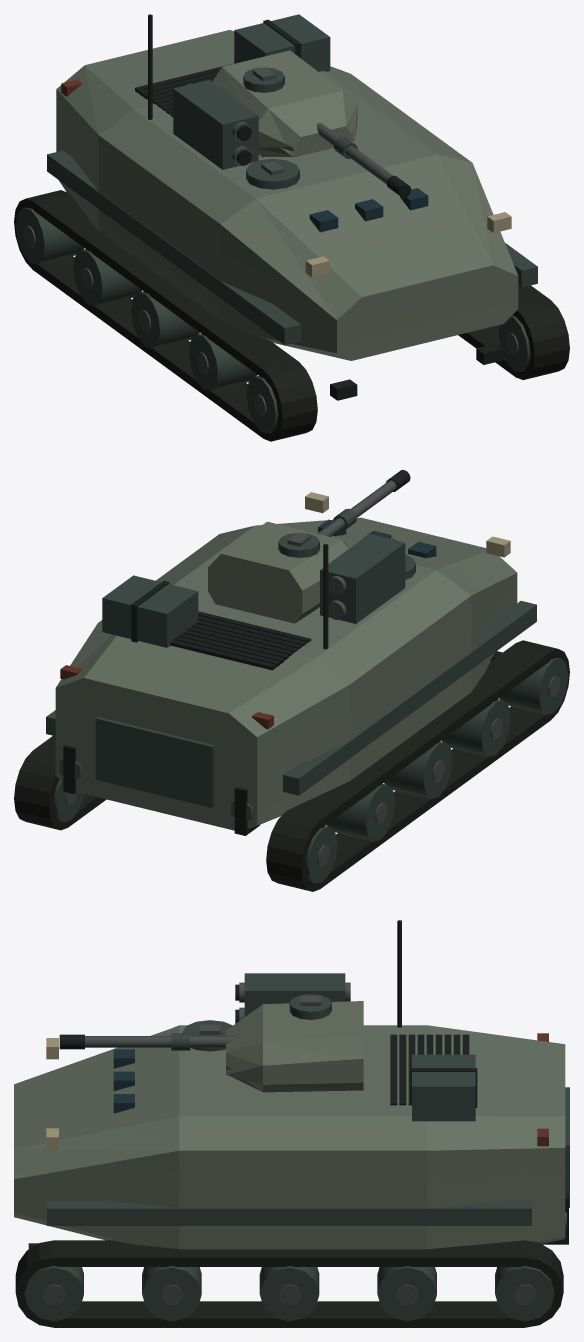
The model's file is ifv-lod.glb.
The picture shows the model from 3 angles, top to bottom: view 1: azimuth 30°, elevation 25°; view 2: azimuth 150°, elevation 25°; view 3: azimuth 270°, elevation 25°; orthographic projection.
Parts seen in each view (by area): view 1: equipment (×4); view 2: equipment (×4); view 3: equipment (×4).
Boxes of the visible parts, bbox=[...] form: equipment (×4): bbox=[14, 14, 569, 441]; equipment (×4): bbox=[14, 470, 569, 891]; equipment (×4): bbox=[14, 920, 569, 1327].
Size of the model in its own units: 3.29 by 3.03 by 5.24.
